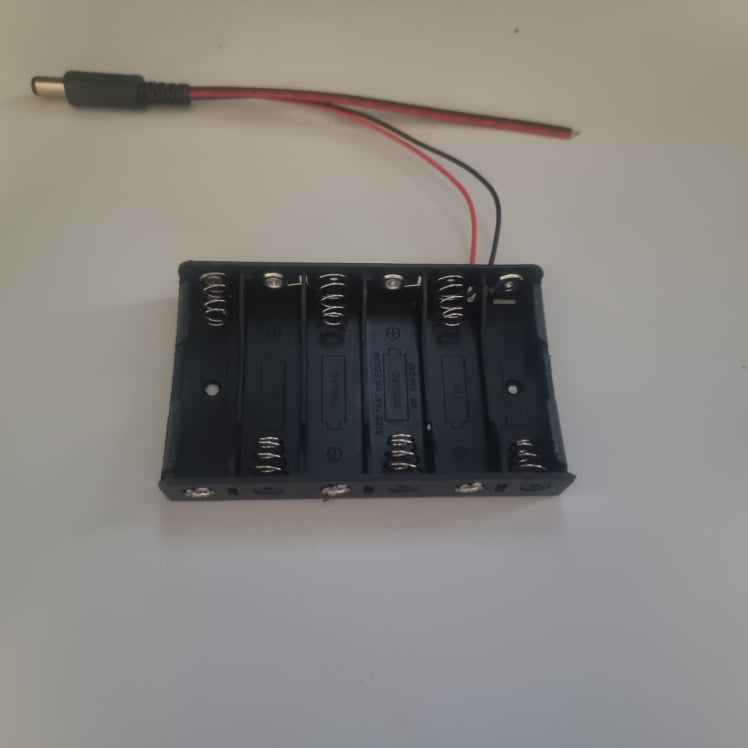BATTERY BOX: (161, 259, 578, 505)
